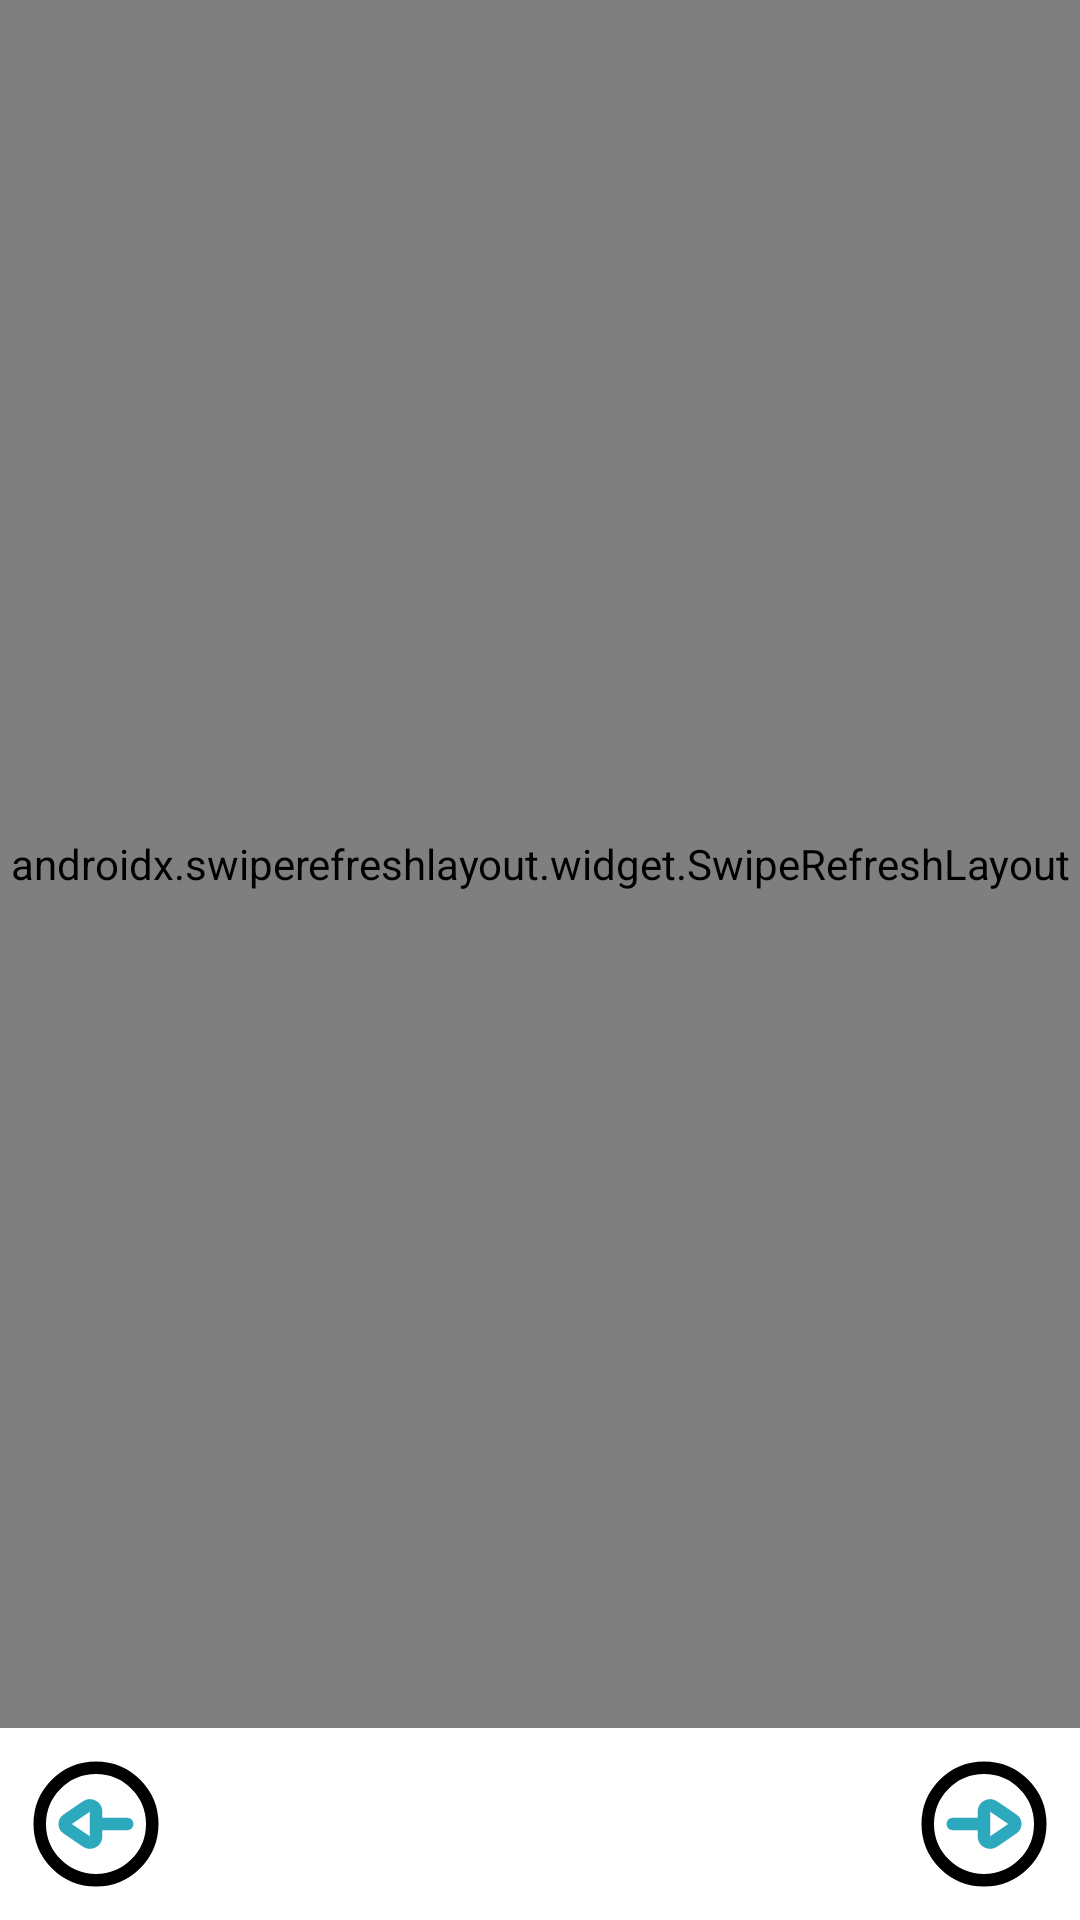

Icon click points for this 1080*1920 phone screenshot, format (x=x, y=y):
left arrow circle: (x=96, y=1824)
right arrow circle: (x=984, y=1824)
